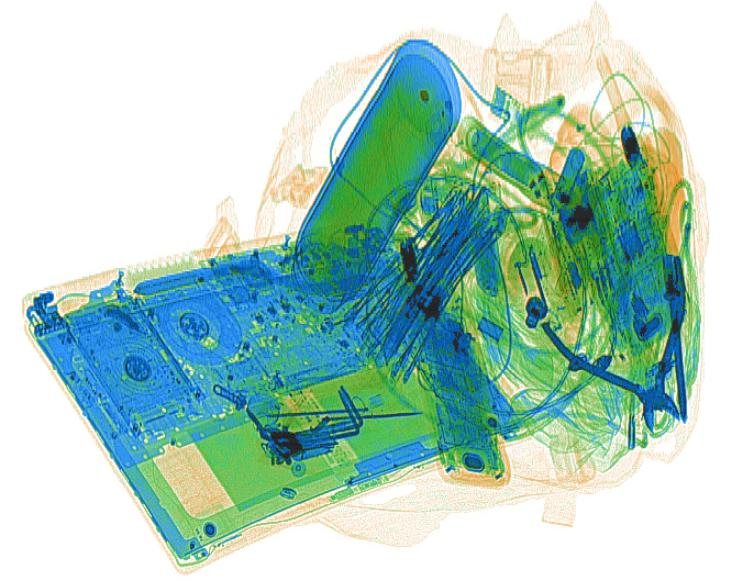battery: (468, 126, 543, 188), (550, 144, 587, 210)
